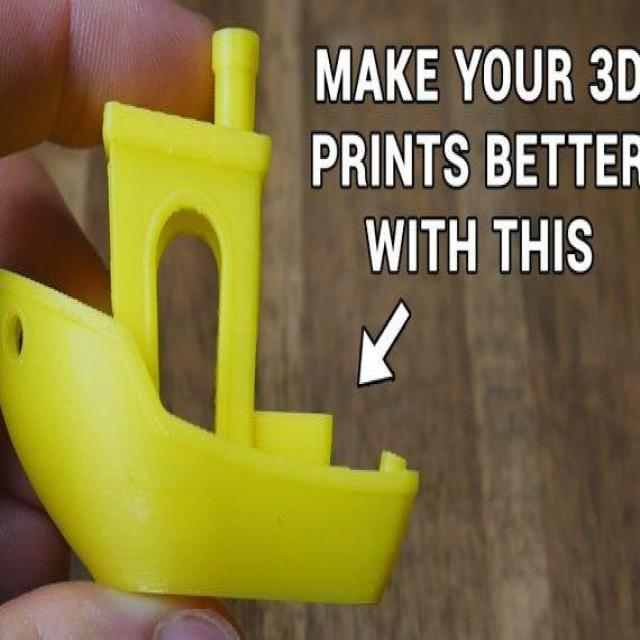Without deffect: (1, 14, 420, 620)
